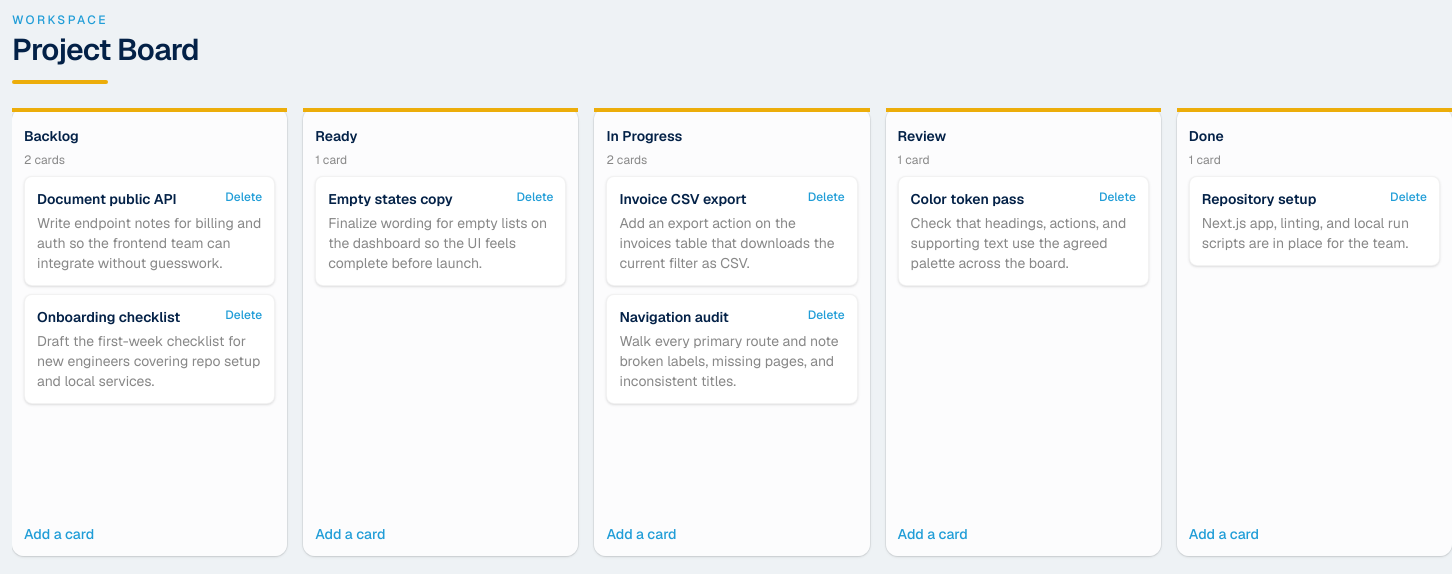
Test: Board › renames a column
The width and height of the screenshot is (1452, 574).
Click the button with test id "column-title-col-backlog": coordinates (150, 136) [24, 126, 275, 146]
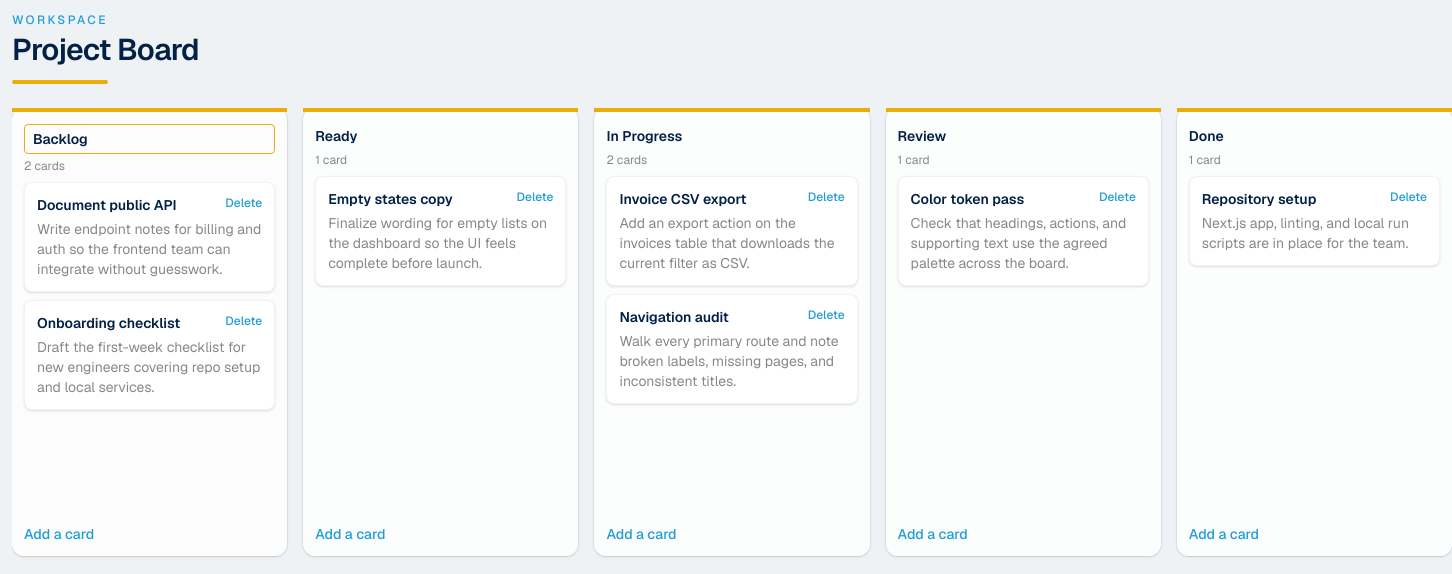
Replace the text in the field with test id "column-title-col-backlog" with "Icebox": coordinates (150, 139) [24, 124, 275, 154]
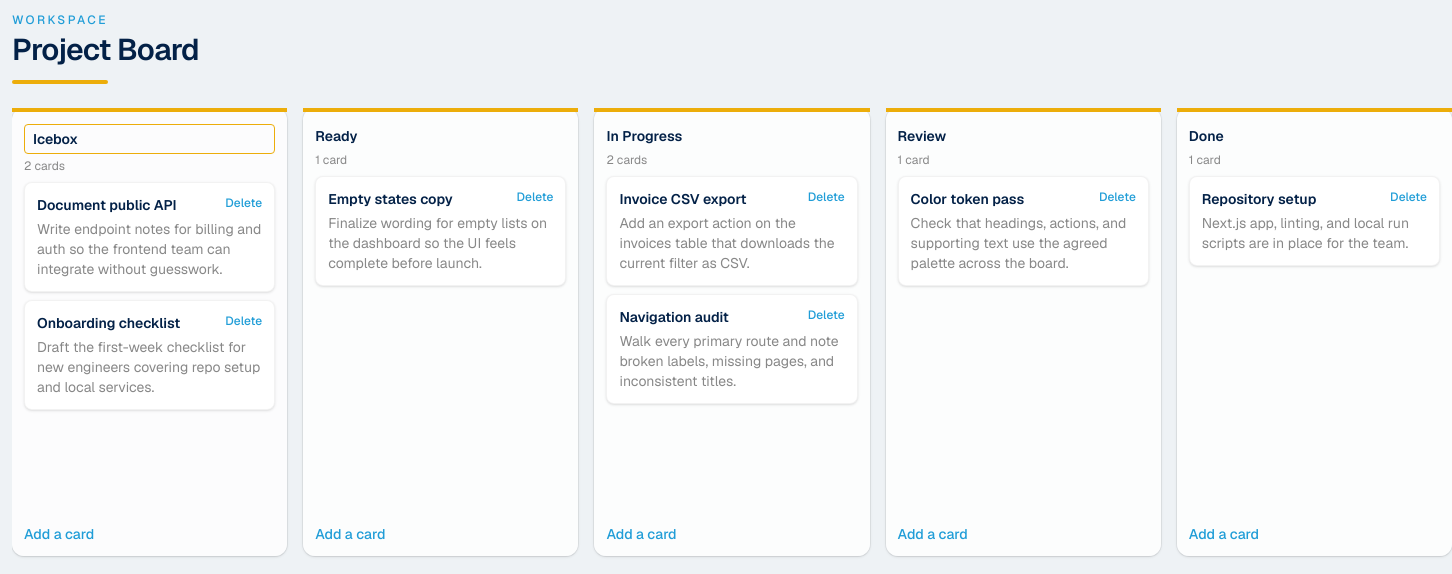
Press Tab
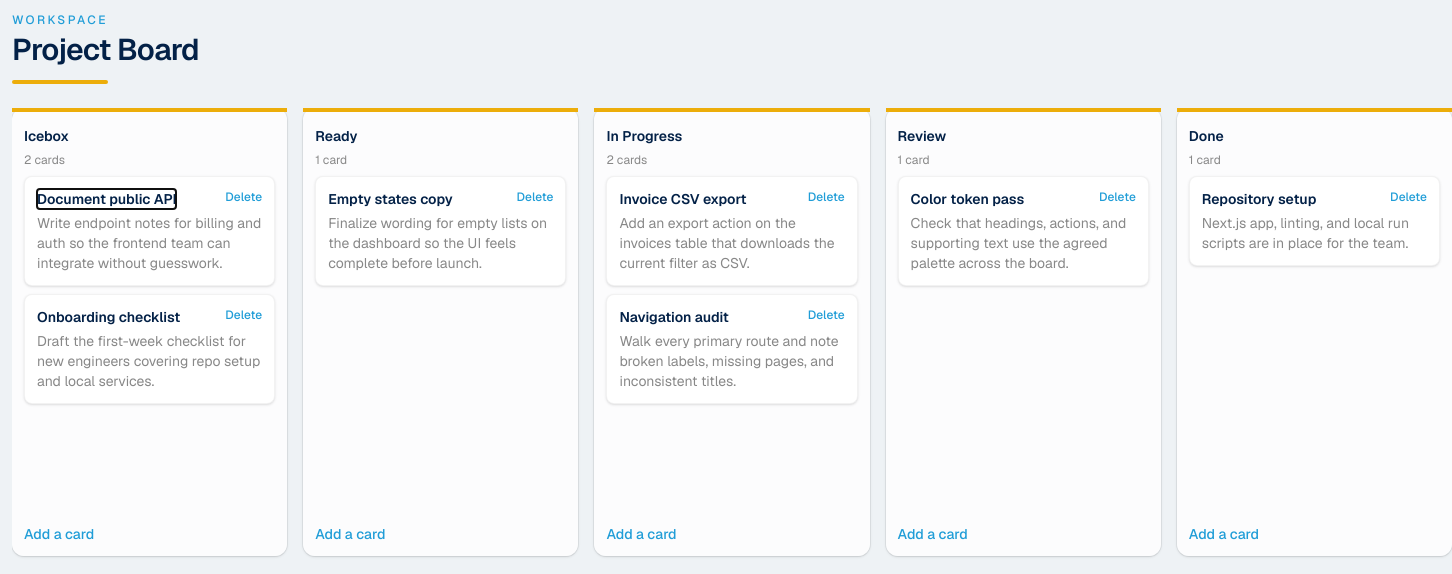
Check: the button with test id "column-title-col-backlog" reads "Icebox", box [24, 126, 275, 146]
